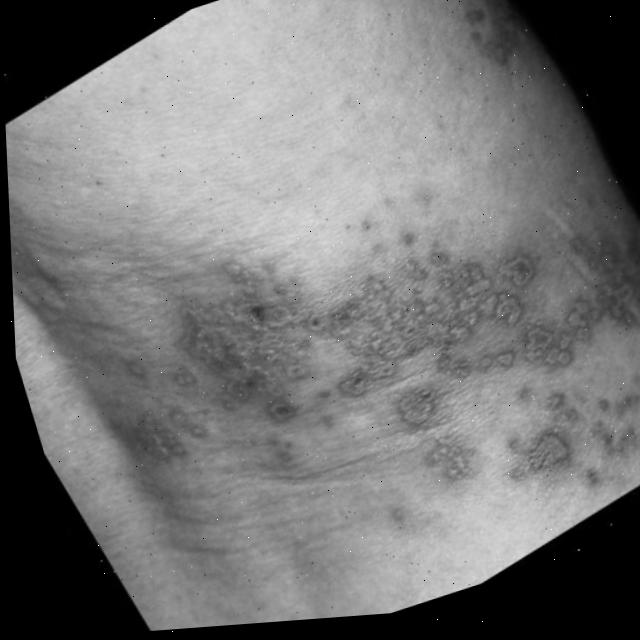Shingles: (88, 129, 640, 624)
